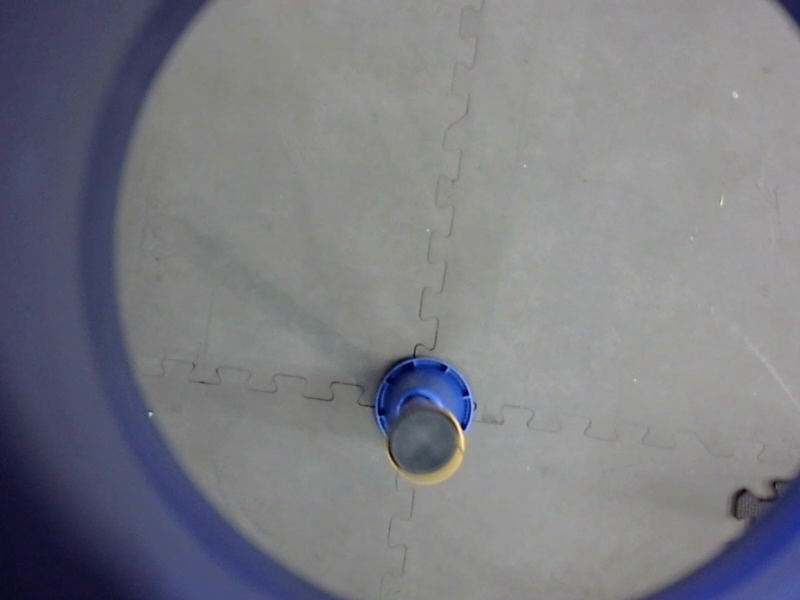tip: (376, 397, 475, 491)
